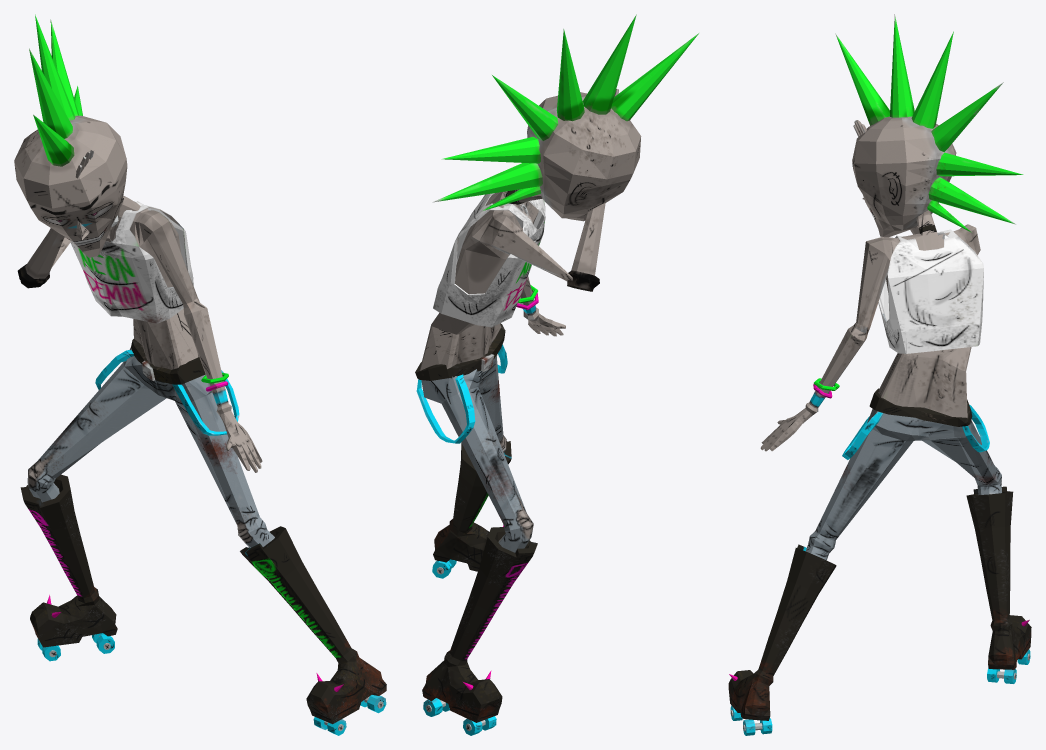
The model's file is punkAnimation_000017.obj.
The picture shows the model from 3 angles, left to right: view 1: azimuth 30°, elevation 25°; view 2: azimuth 150°, elevation 25°; view 3: azimuth 270°, elevation 25°; orthographic projection. The views are drawn at different scales.
Visible parts, largest first — view 1: Cube.004_Cube.003; view 2: Cube.004_Cube.003; view 3: Cube.004_Cube.003.
Part boxes in pixels (left/top/right/bottom): Cube.004_Cube.003: left=14, top=14, right=386, bottom=735; Cube.004_Cube.003: left=415, top=14, right=698, bottom=735; Cube.004_Cube.003: left=728, top=14, right=1031, bottom=735.
Bounding box in the file's own units: 3.15 × 6.71 × 3.01.
